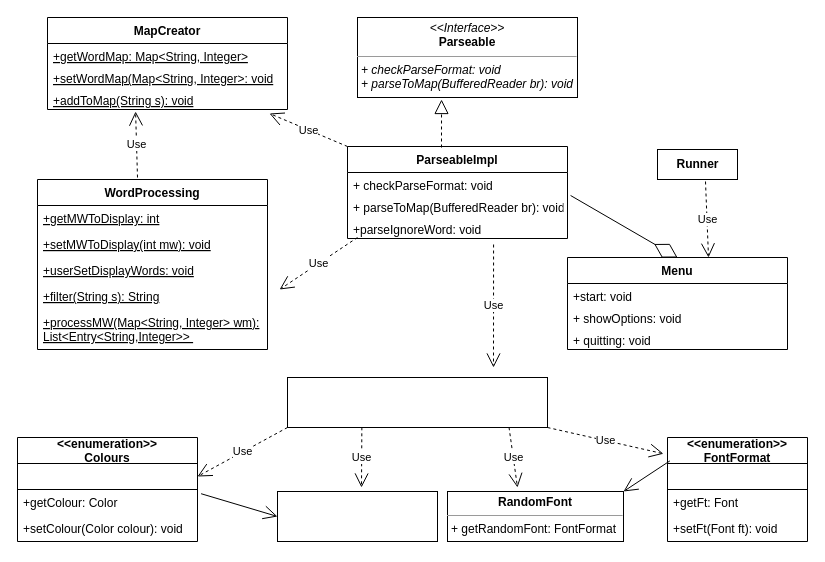
Some shapes in this 825 by 562 pixel diagram are drawn without their labels. The centre of each missing label's shape, as x and y in pixels:
"Colour" goes at point (107, 476).
"Font" goes at point (737, 476).
"RandomColour + getRandomColour: Colours" goes at point (357, 516).
"ReallySimpleWC + drawWC(List<Entry<String, Integer>> K): void" goes at point (417, 402).
